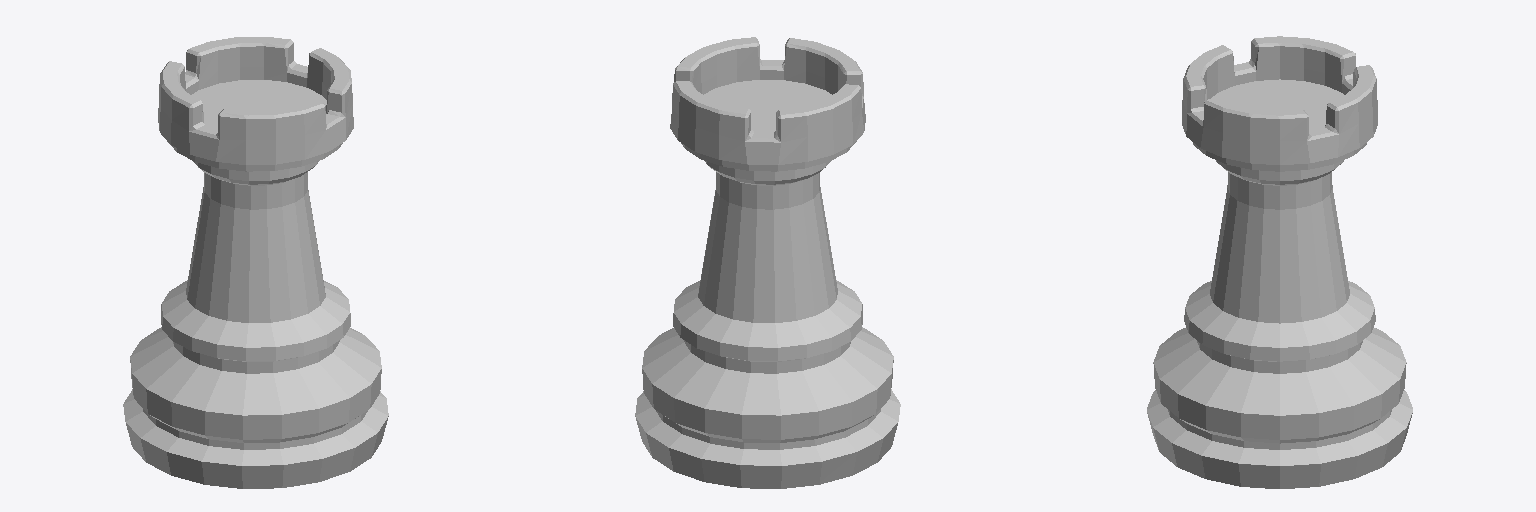
File: blackRook.obj
3 renders of one model, left to right at view 1: azimuth 30°, elevation 25°; view 2: azimuth 150°, elevation 25°; view 3: azimuth 270°, elevation 25°, orthographic.
Parts seen in each view (by area): view 1: pCylinder33; view 2: pCylinder33; view 3: pCylinder33.
Boxes of the visible parts, box(x1,y1,x2,y2) form: pCylinder33: box(123, 37, 388, 488); pCylinder33: box(635, 37, 900, 488); pCylinder33: box(1147, 36, 1412, 488).
Size of the model in its own units: 0.9482 by 1.41 by 0.9482.